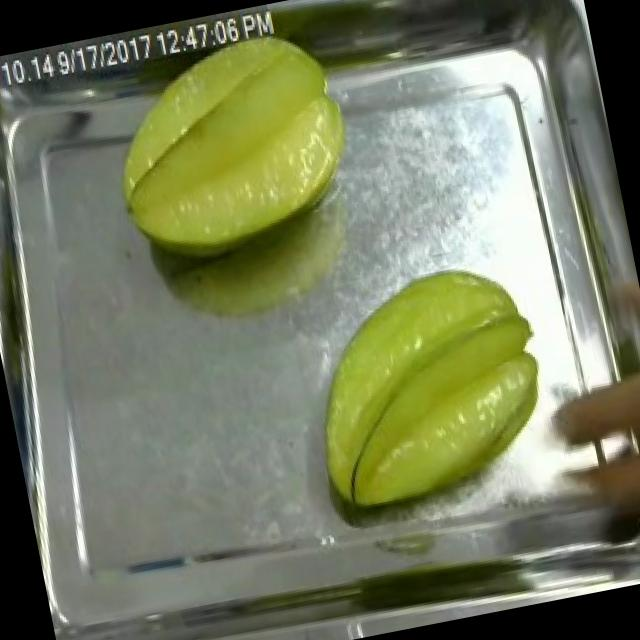fruit: (281, 249, 574, 532), (85, 8, 378, 278)
